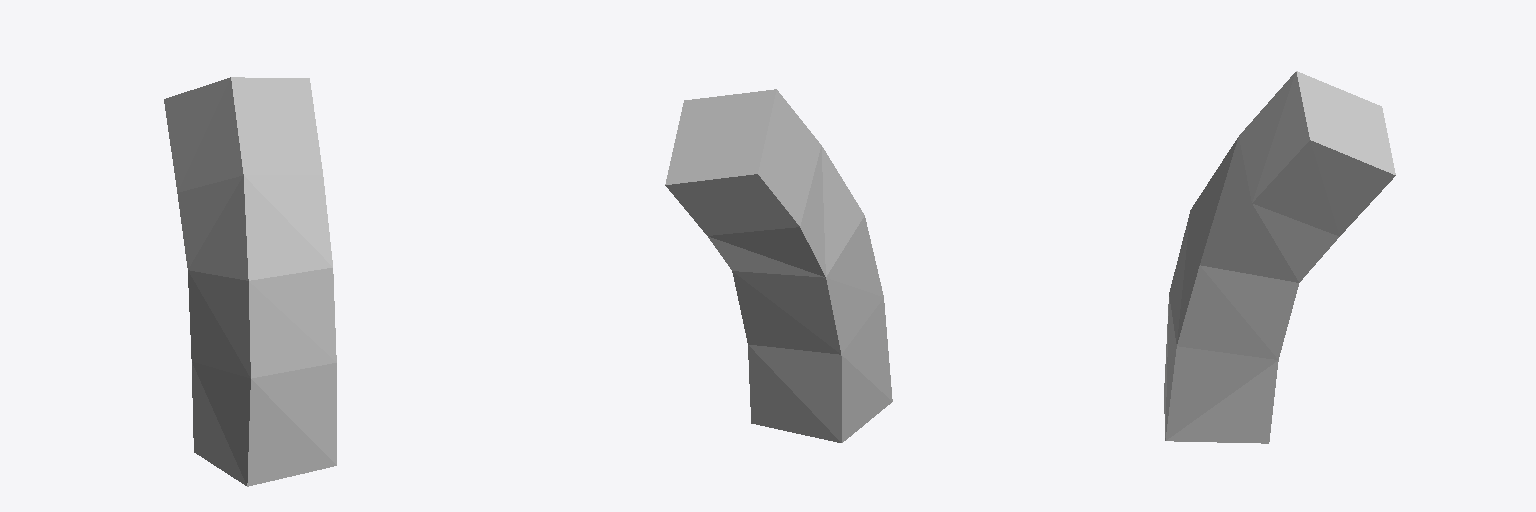
The model's file is wiggle_000019.obj.
The picture shows the model from 3 angles: view 1: azimuth 30°, elevation 25°; view 2: azimuth 150°, elevation 25°; view 3: azimuth 270°, elevation 25°; orthographic projection.
Visible parts, largest first — view 1: Cube; view 2: Cube; view 3: Cube.
Part boxes in pixels (bbox=[...]): Cube: bbox=[164, 77, 336, 486]; Cube: bbox=[665, 89, 892, 442]; Cube: bbox=[1164, 71, 1395, 443].
Size of the model in its own units: 3.05 by 7.47 by 4.45.